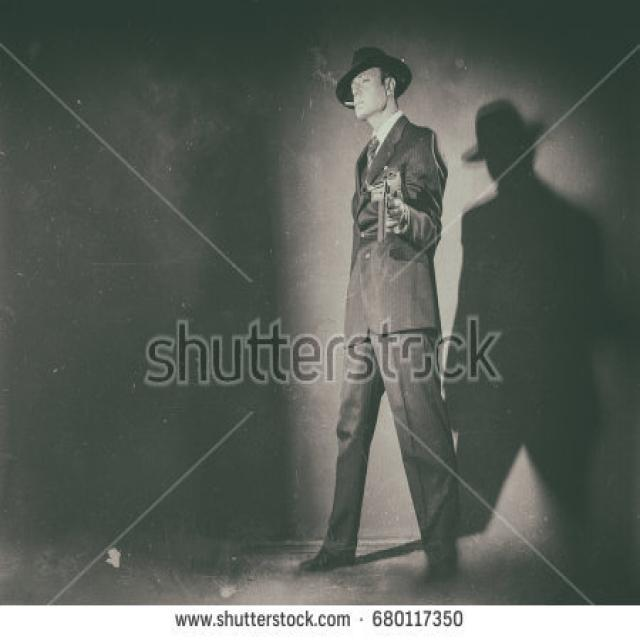cigarette: (344, 101, 356, 105)
